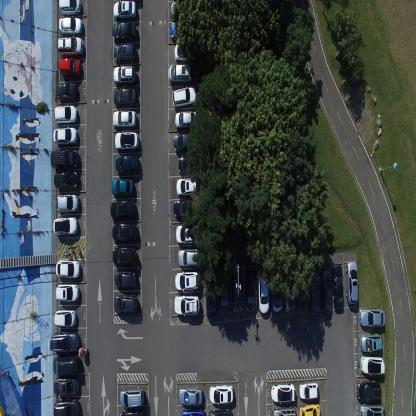car: (50, 147, 79, 170), (49, 331, 80, 352), (345, 260, 359, 306), (169, 0, 198, 22), (111, 221, 137, 244), (118, 386, 144, 409), (331, 262, 344, 308), (173, 134, 201, 155), (173, 295, 199, 317), (58, 36, 84, 58), (356, 379, 382, 401), (169, 22, 196, 43), (308, 270, 320, 316), (295, 264, 307, 310), (172, 88, 197, 110), (109, 198, 135, 219), (360, 354, 386, 375), (53, 376, 80, 396), (359, 308, 386, 328), (115, 130, 139, 152), (58, 57, 82, 79), (168, 63, 192, 85), (175, 224, 200, 245), (53, 170, 78, 191), (53, 104, 78, 125), (52, 214, 78, 234), (58, 16, 84, 36), (271, 266, 282, 313), (52, 356, 79, 375), (54, 259, 81, 278), (175, 111, 199, 132), (115, 154, 139, 175), (114, 86, 138, 107), (360, 332, 384, 353), (113, 109, 138, 129), (113, 21, 138, 41), (208, 385, 233, 405), (53, 126, 78, 146), (271, 383, 296, 403), (53, 398, 80, 416), (321, 270, 332, 314), (258, 270, 269, 314), (113, 293, 136, 314), (175, 178, 199, 198), (112, 246, 136, 266), (113, 64, 137, 84), (114, 42, 138, 62), (55, 192, 79, 212), (174, 272, 198, 292), (283, 272, 295, 312), (206, 274, 216, 322), (55, 283, 79, 303), (173, 43, 197, 63), (245, 269, 256, 312), (173, 200, 199, 218), (231, 272, 242, 314), (218, 274, 229, 316), (178, 386, 201, 406), (113, 0, 136, 20), (178, 157, 202, 176), (177, 248, 199, 268), (56, 82, 79, 101), (53, 308, 77, 326), (298, 380, 319, 400), (114, 269, 136, 288), (111, 178, 134, 196), (58, 0, 82, 15), (360, 403, 385, 415), (300, 402, 322, 415), (272, 406, 296, 416), (209, 407, 233, 415), (182, 408, 205, 415), (120, 409, 145, 415)
